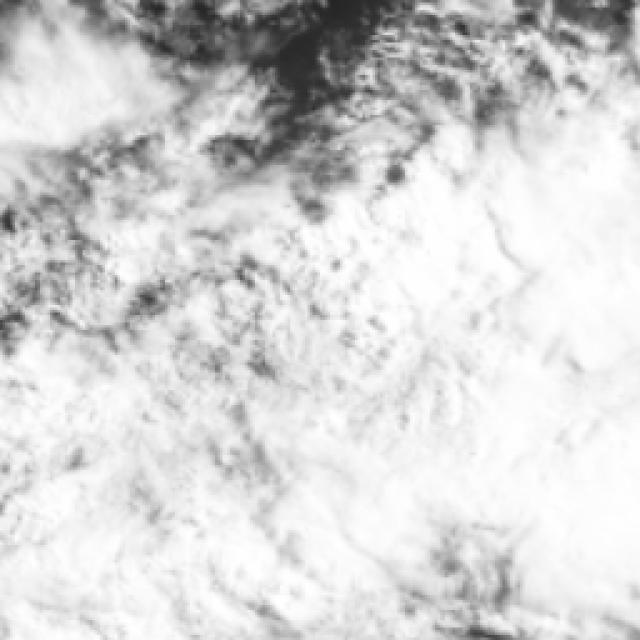CB: (453, 177, 629, 512), (56, 483, 397, 593)
